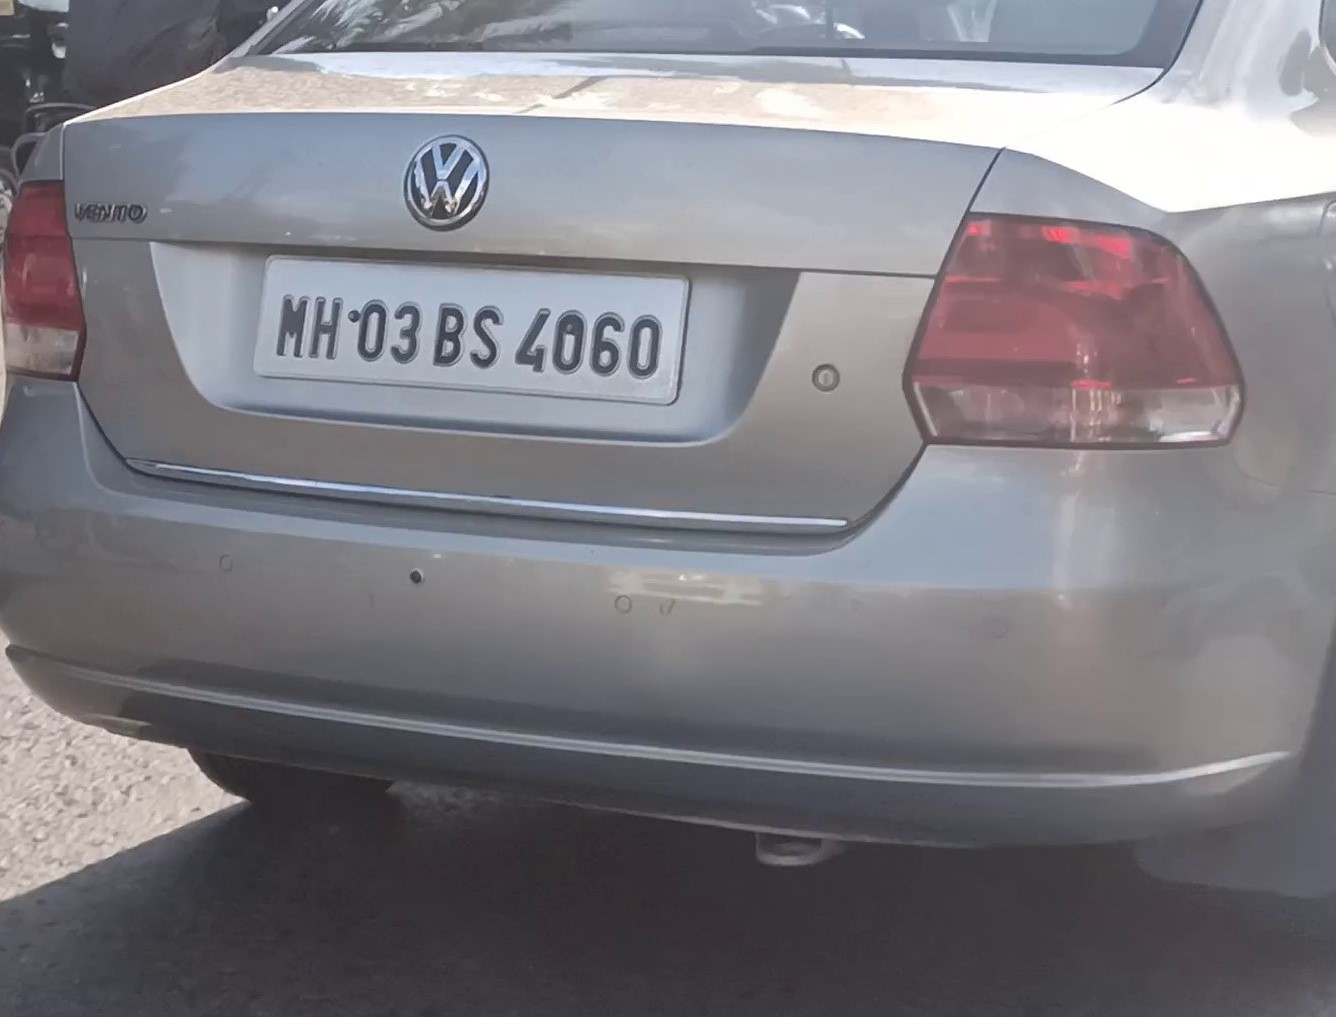MH03BS4060: (255, 256, 691, 406)
